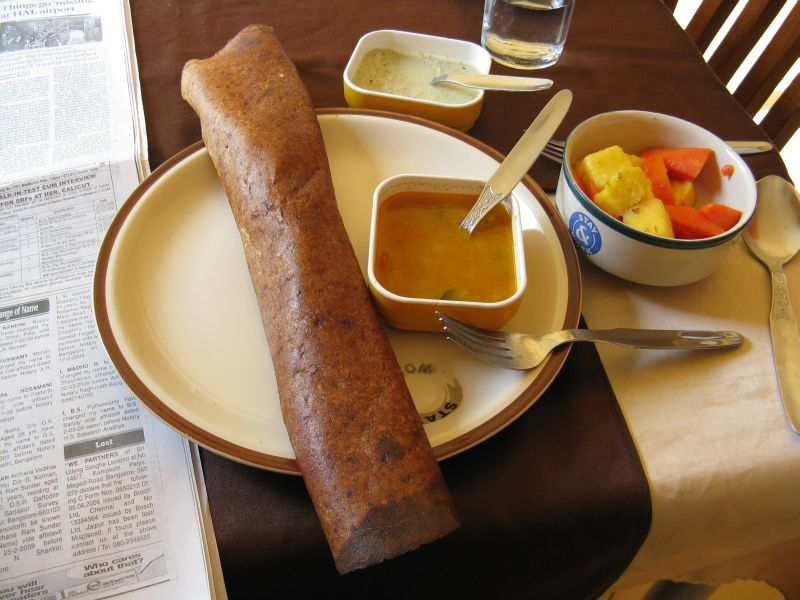dosa: (176, 24, 478, 578)
